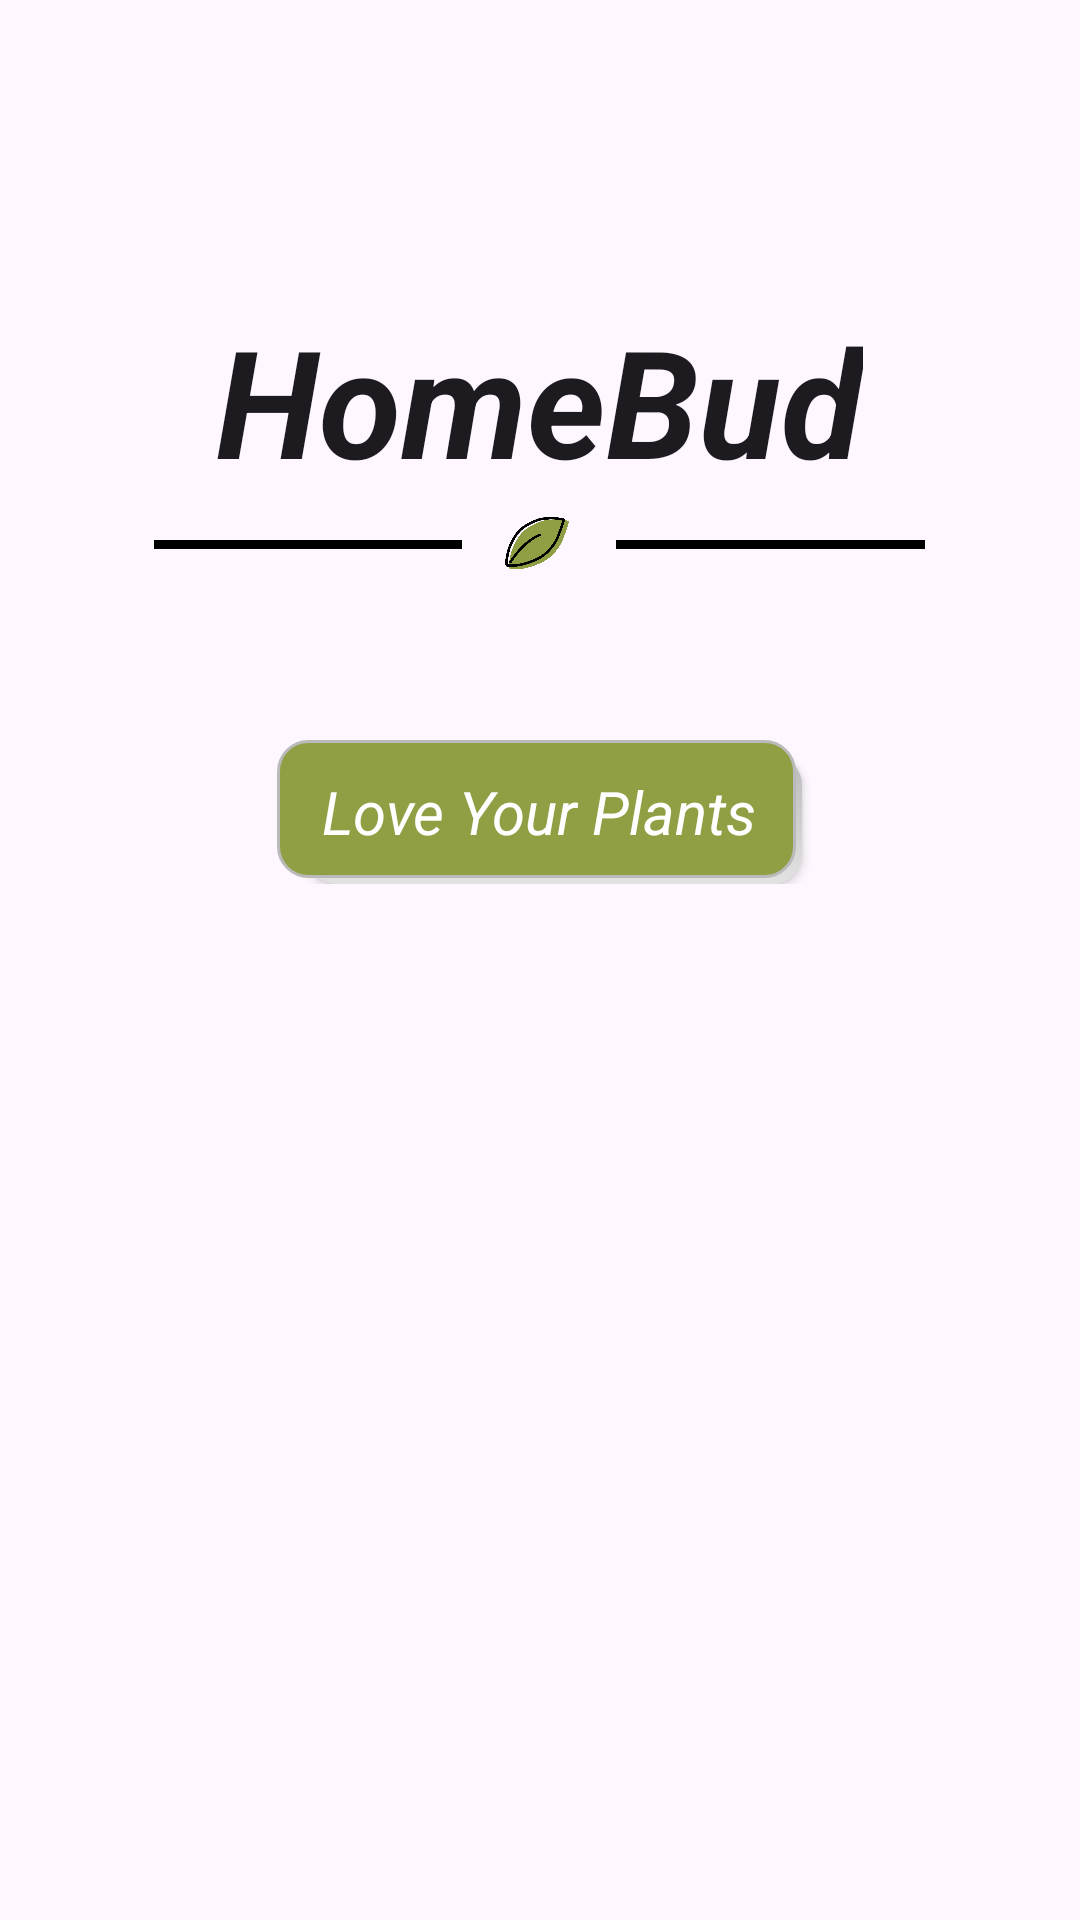

Where icons sit on this 1080 × 1920 app screen, as (x1, y1, x2, y2):
leaf: (505, 517, 569, 569)
